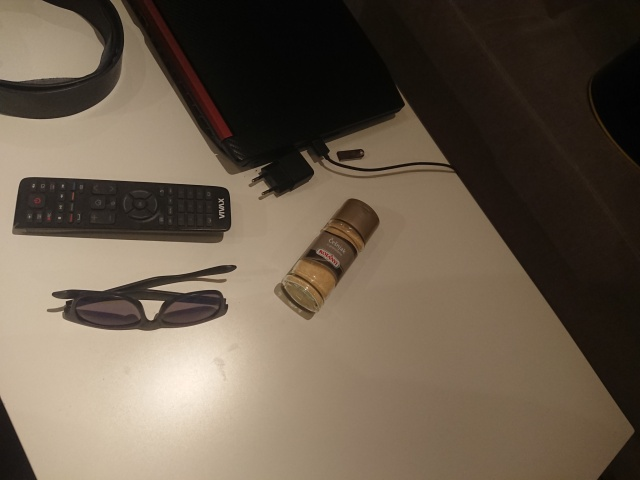Kotanyi Garlic Granules 70g: (279, 195, 382, 315)
